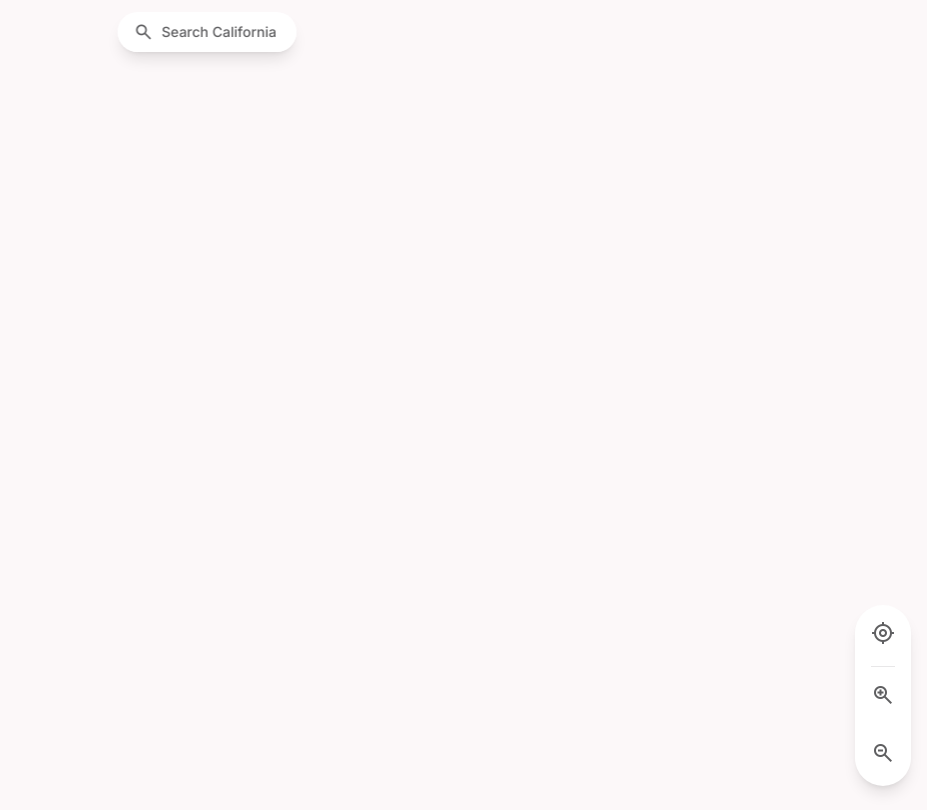
Test case: UnifiedSearchBar accessibility › gives the input combobox semantics wired to the results listbox
The width and height of the screenshot is (927, 810).
Step 1. Click the button with aria-label "Open search" → (207, 32), box [118,12,296,52]
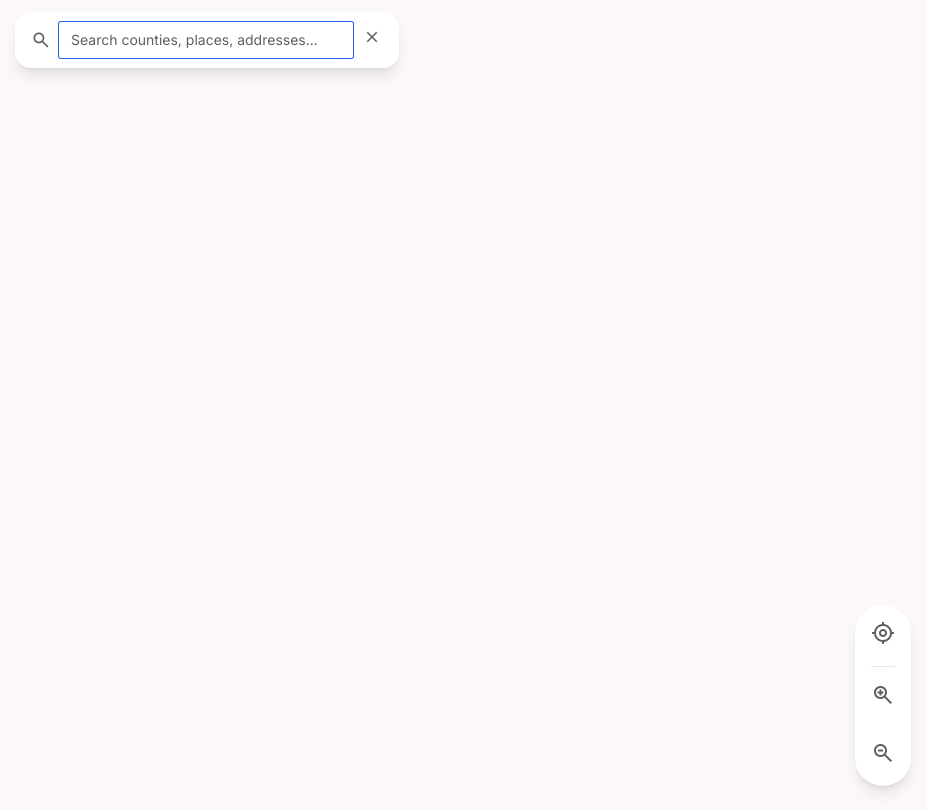
Step 2. Type "alam" into the dropdown named "Search counties, places, and addresses" → (206, 40), box [59,22,353,58]
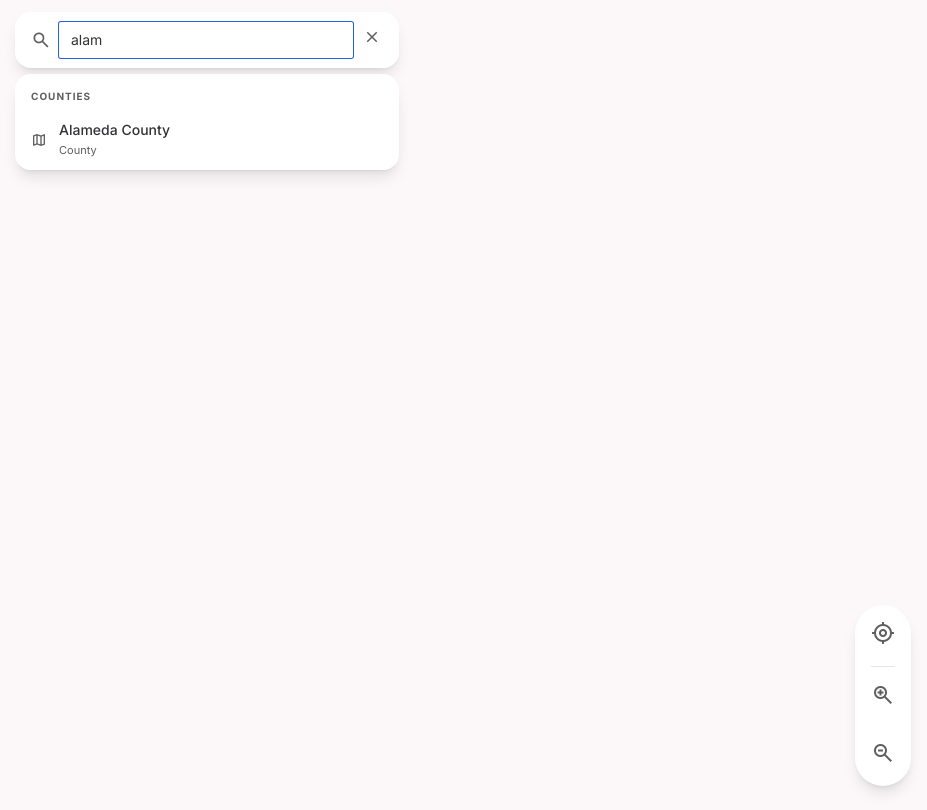
expect the dropdown named "Search counties, places, and addresses" is expanded: met, box [59,22,353,58]
